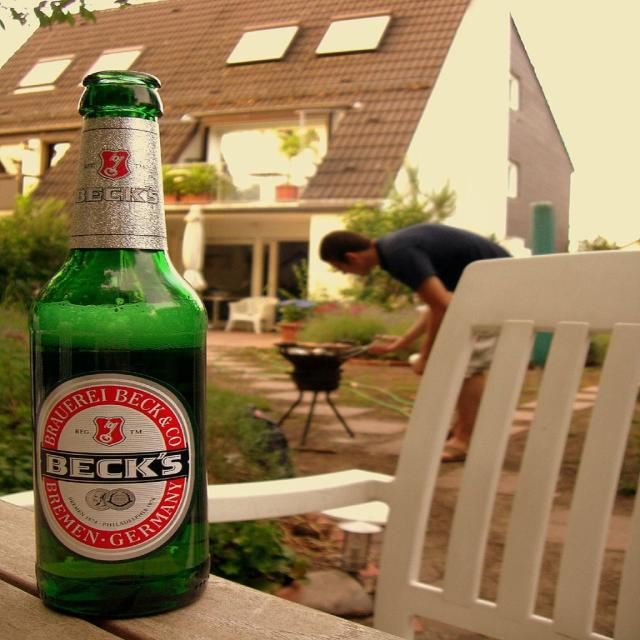becks: (34, 374, 196, 562)
